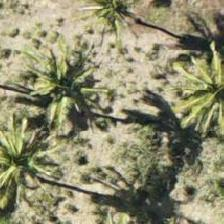coconut_tree: (129, 31, 219, 121), (33, 60, 123, 150), (0, 119, 59, 209), (75, 0, 165, 46)
